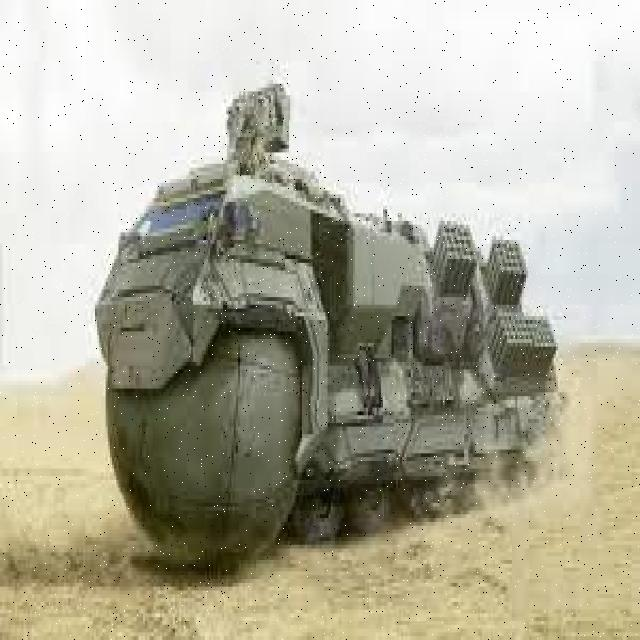MIL_MBT: (89, 120, 580, 493)
